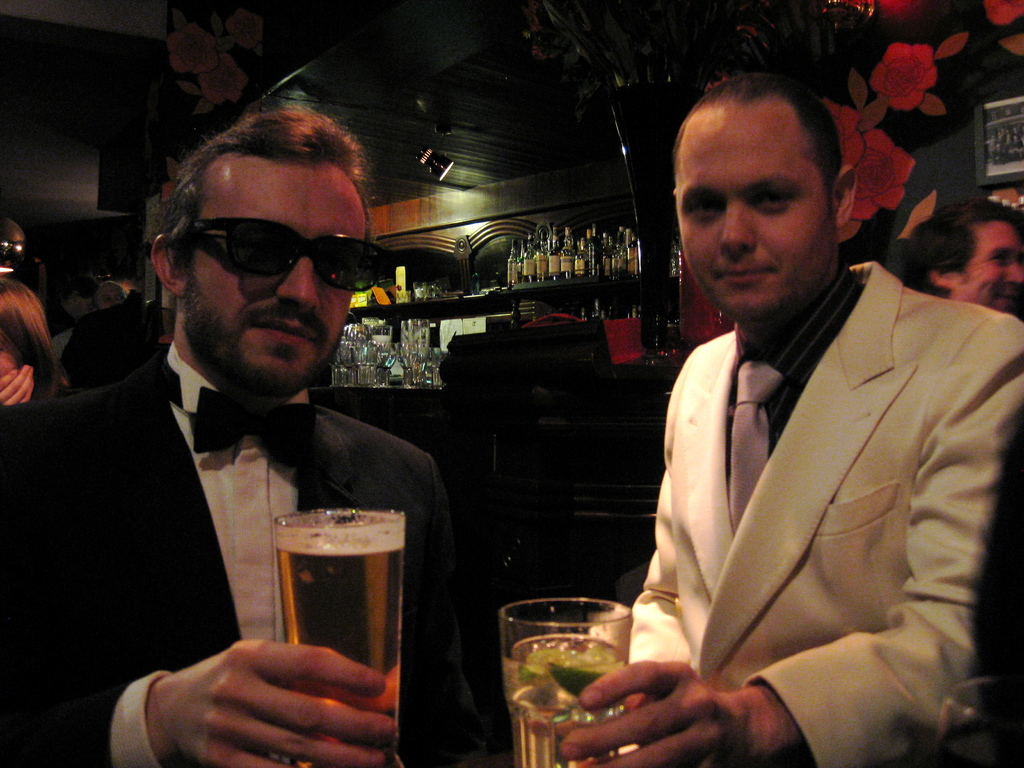Beer: (273, 505, 407, 768)
